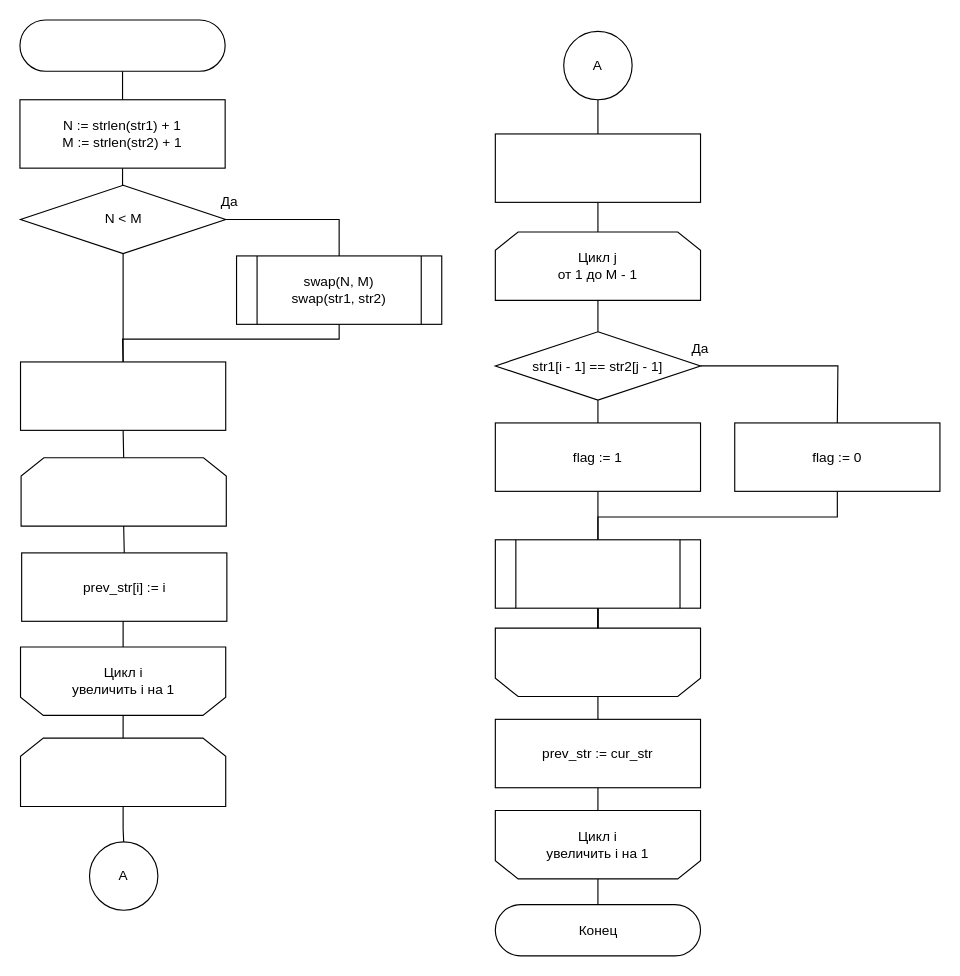
Image size: 960x976. Some labels were removed from this diagram. The shapes that lost their labels are listed below. From the top down, each one's centre as x and y in pixels, then its label:
At point 122,45: "Начало".
At point 597,167: "cur_str[0] := i".
At point 122,395: "prev_str[M] cur_str[M]".
At point 123,491: "Цикл i от 0 до M - 1".
At point 597,573: "cur_str[j] := min( cur_str[j - 1] + 1, prev_str[j] + 1, prev_str[j - 1] + flag)".
At point 597,662: "Цикл j увеличить j на 1".
At point 122,772: "Цикл i от 1 до N - 1".
